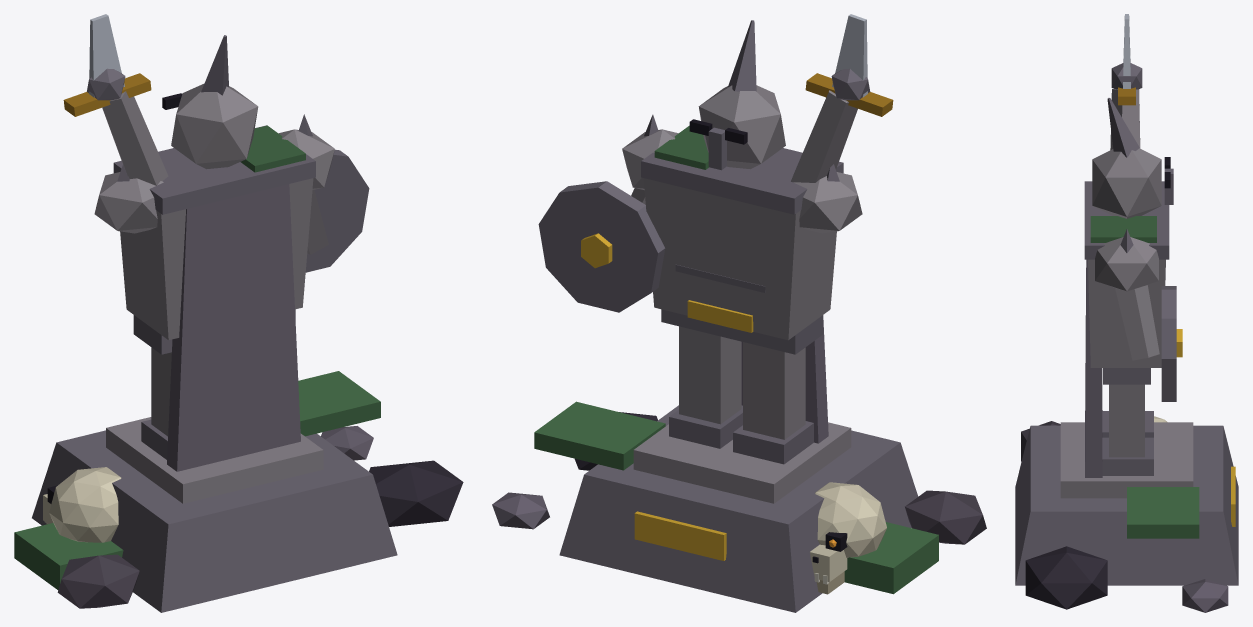
Rendered from Decor_DragonLair_Statue.fbx.
The picture shows the model from 3 angles, left to right: view 1: azimuth 30°, elevation 25°; view 2: azimuth 150°, elevation 25°; view 3: azimuth 270°, elevation 25°; orthographic projection. The views are drawn at different scales.
Visible parts, largest first — view 1: Statue_Body; view 2: Statue_Body; view 3: Statue_Body.
Part boxes in pixels (<box>): Statue_Body: <box>14,14,463,612</box>; Statue_Body: <box>492,14,986,612</box>; Statue_Body: <box>1015,14,1238,612</box>.
Bounding box in the file's own units: 13 × 16.8 × 7.2.
